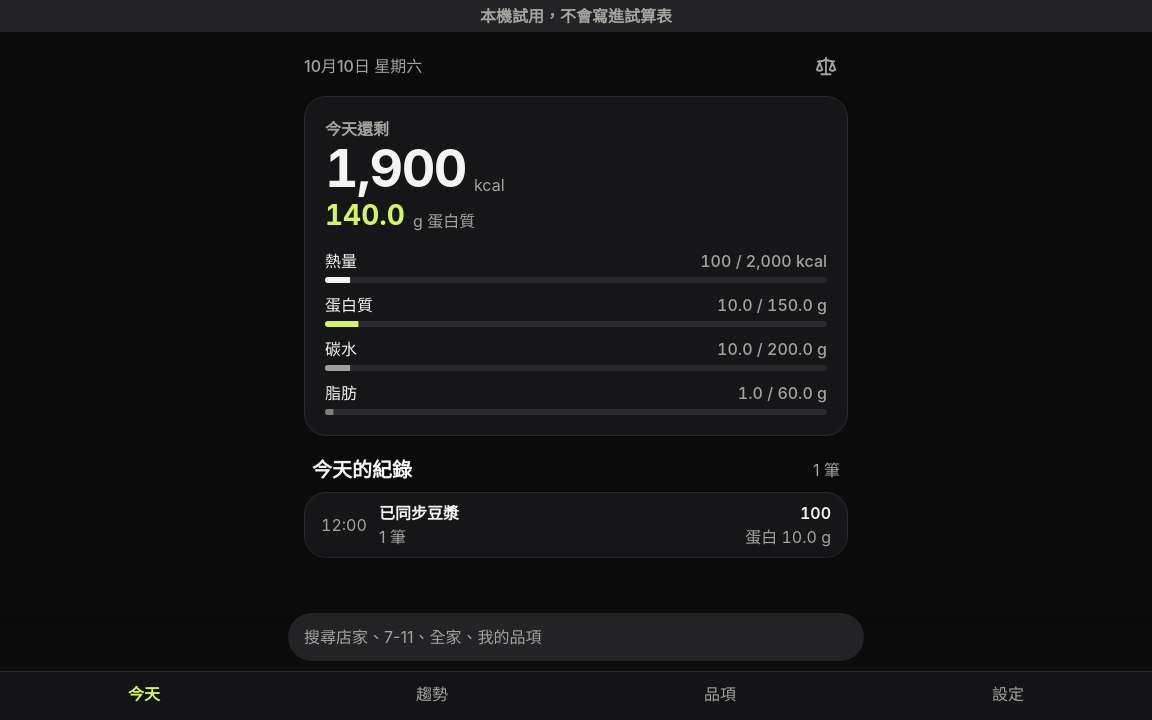
Test: read_only：刪除失敗的 toast 顯示伺服器訊息，只留捨棄，不給重試
Click the button "12:00 已同步豆漿 1 筆 100 蛋白 10.0 g" at point(344, 525), box [305,493,847,557]
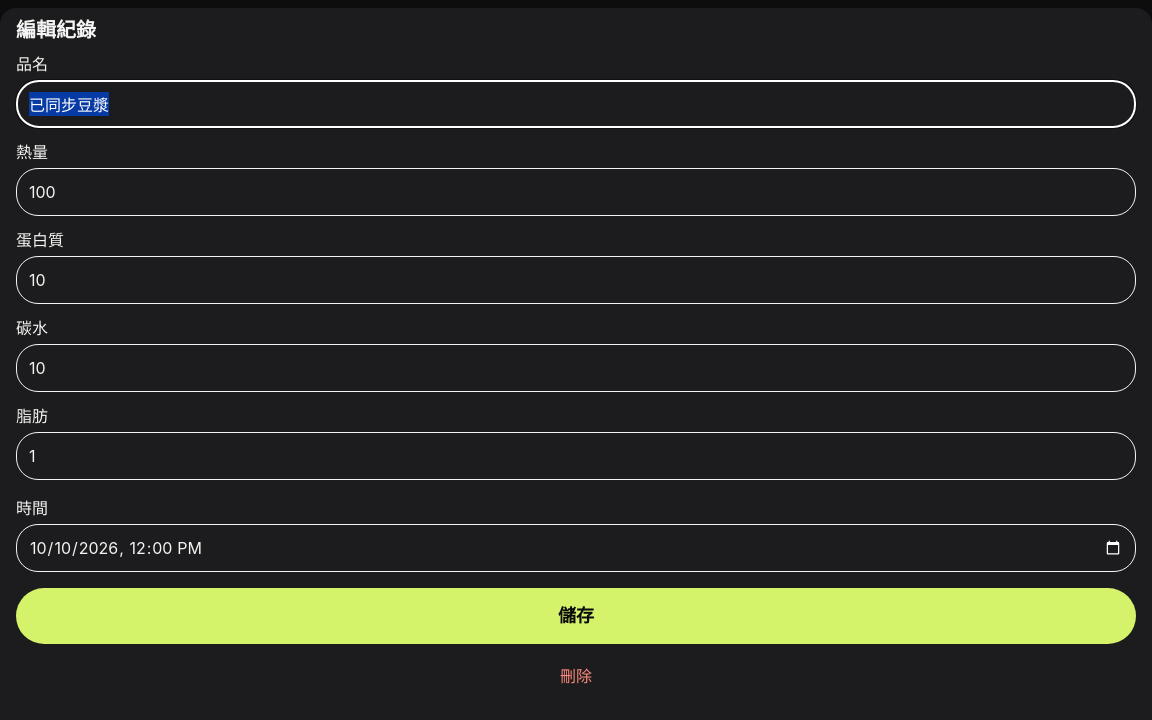
Click the button "刪除" at point(576, 676), box [16,652,1136,700]
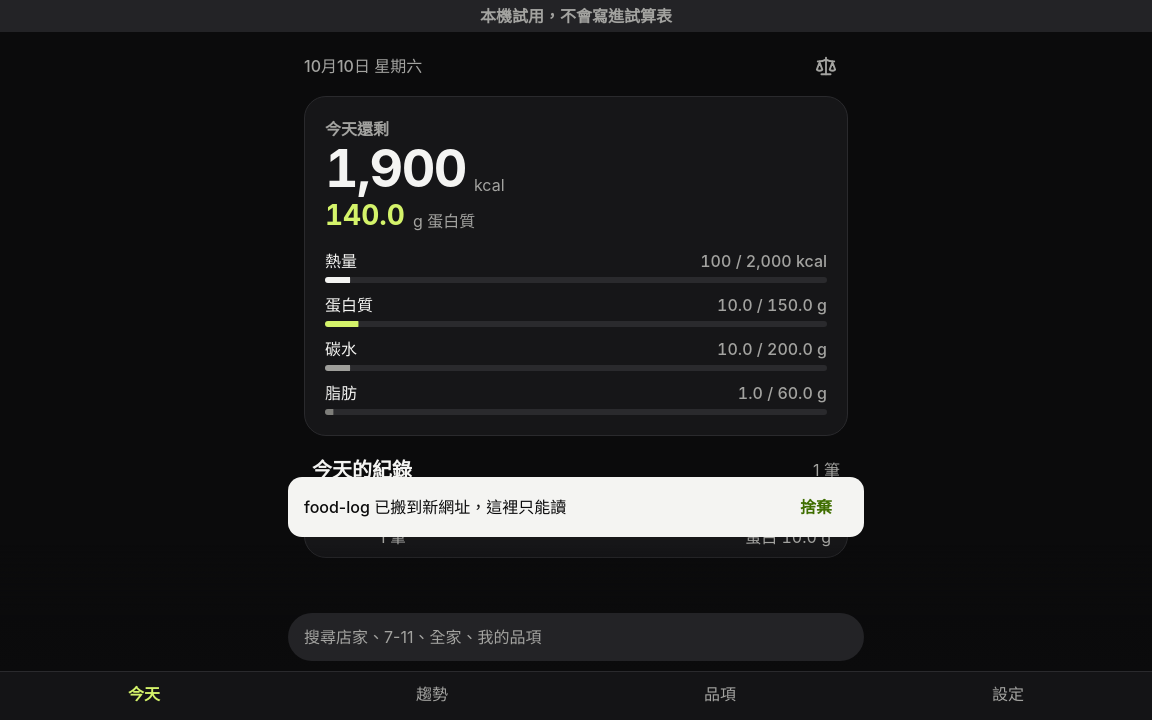
Now the text "food-log 已搬到新網址，這裡只能讀" is shown, box [304,495,566,519]
Now the button "捨棄" is shown, box [784,485,848,529]
